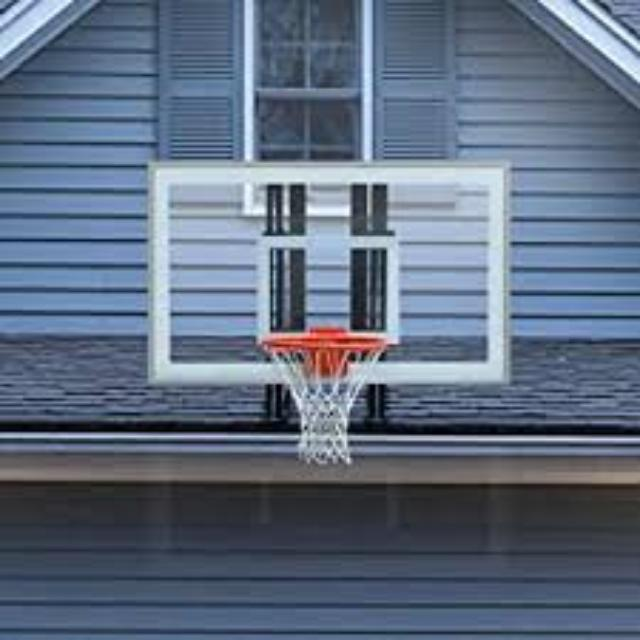rim: (266, 332, 384, 460)
